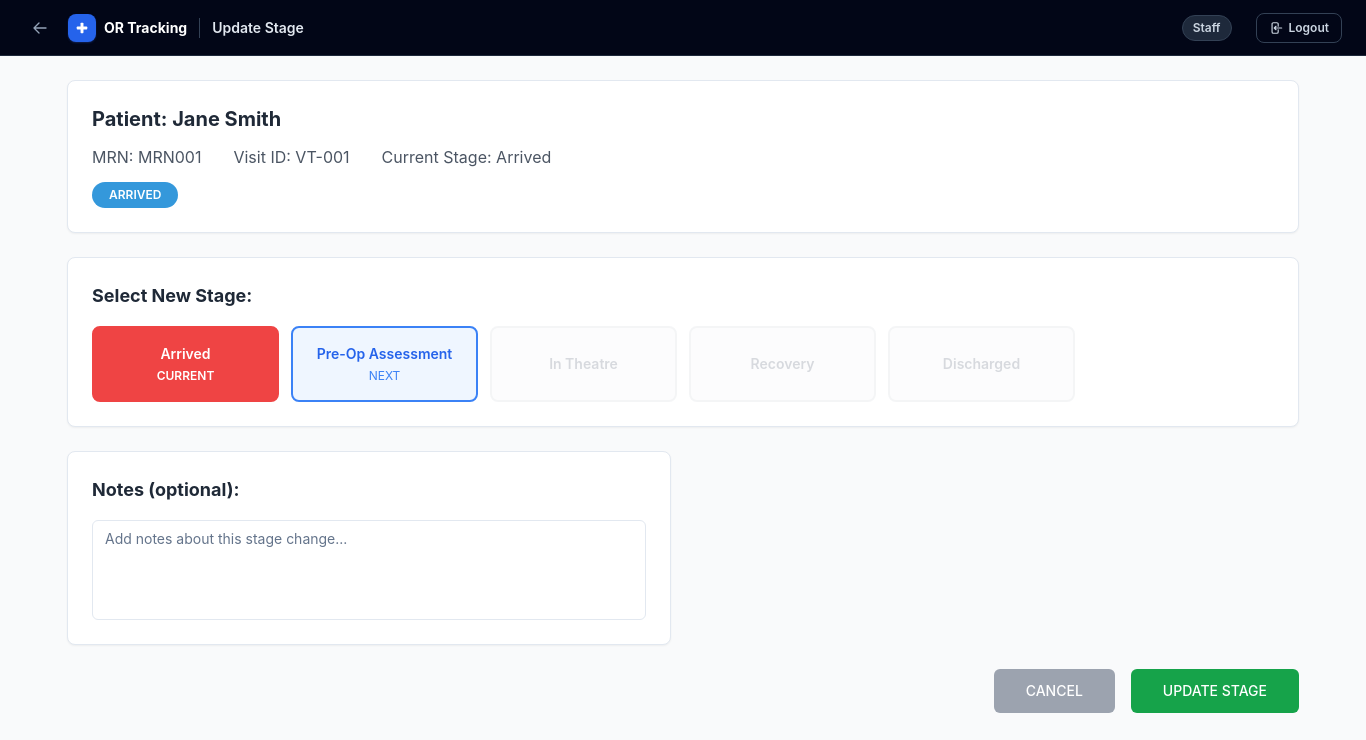
Test case: UpdateStagePage › shows error message when updateStage API fails
Expected: the heading "Patient: Jane Smith" is shown, [92,107,281,131]
Click the button "UPDATE STAGE": (1215, 691) [1131,669,1299,713]
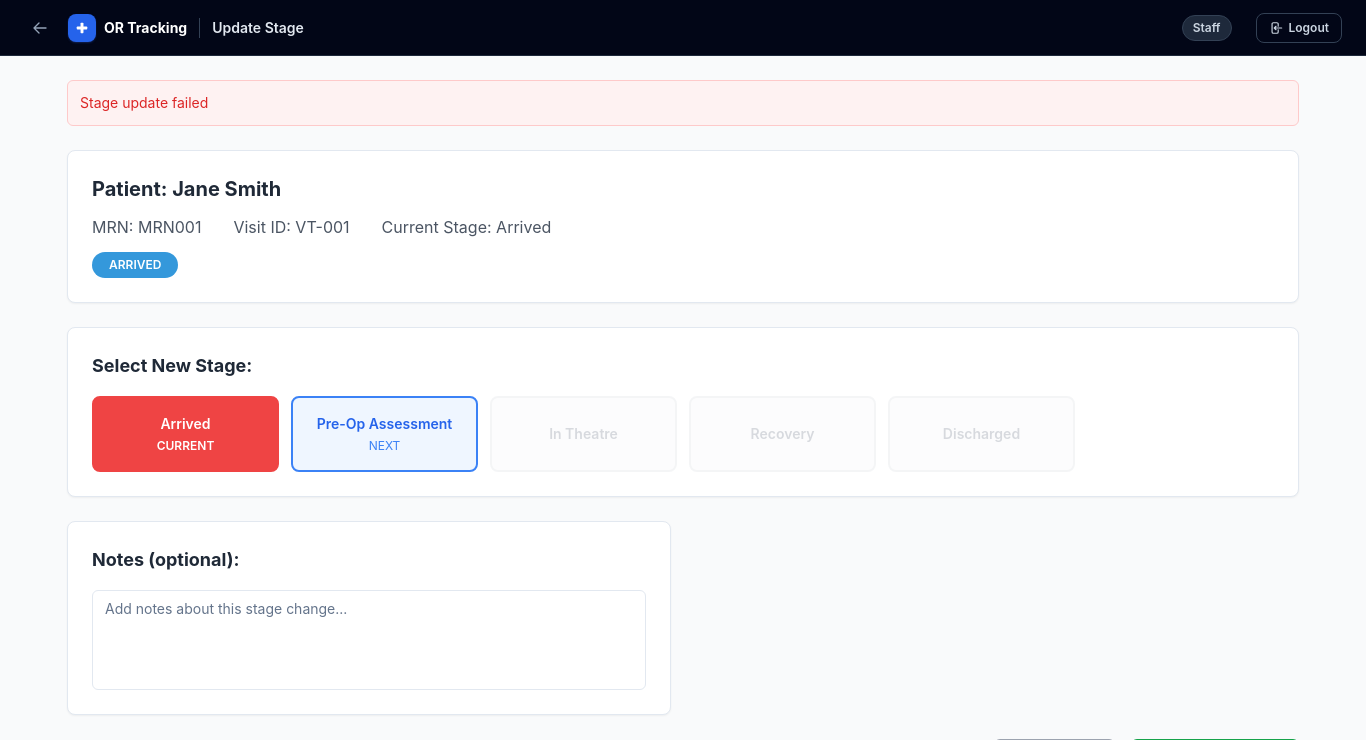
Expected: the text "Stage update failed" is shown, [67,80,1299,126]
